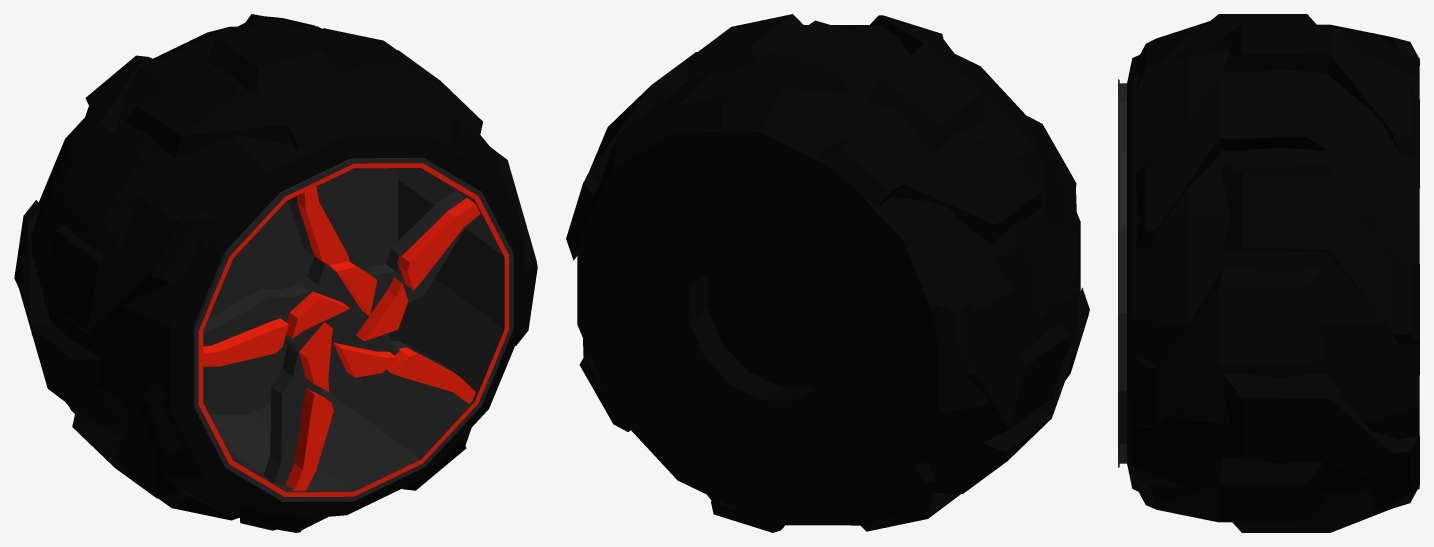
File: wheel45.fbx
3 views of the same model, side by side, from view 1: azimuth 30°, elevation 25°; view 2: azimuth 150°, elevation 25°; view 3: azimuth 270°, elevation 25° (orthographic). The views are drawn at different scales.
Visible parts, largest first — view 1: lanot_wheel44_L; view 2: lanot_wheel44_L; view 3: lanot_wheel44_L.
Boxes of the visible parts, x1,y1,x2,y2 form: lanot_wheel44_L: (14, 14, 537, 532); lanot_wheel44_L: (566, 14, 1089, 532); lanot_wheel44_L: (1118, 14, 1419, 532).
Bounding box in the file's own units: 163 × 162 × 94.17.
